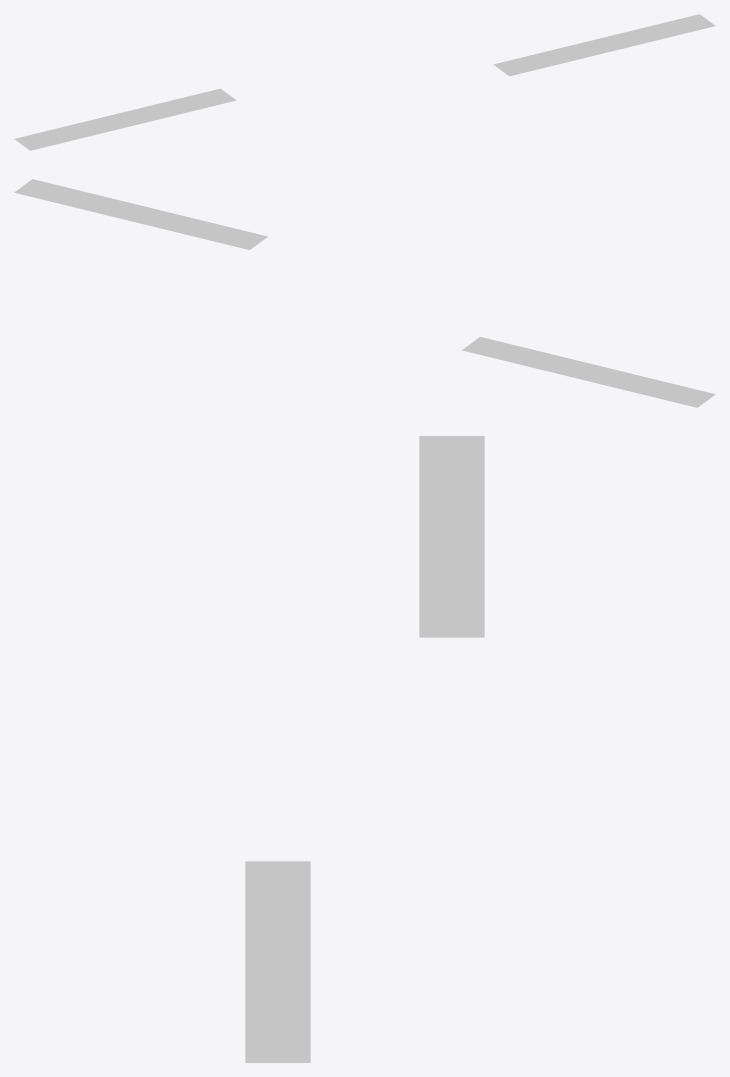
Rendered from kd_stage_135ded_4_151.glb.
3 views of the same model, one above another, from view 1: azimuth 30°, elevation 25°; view 2: azimuth 150°, elevation 25°; view 3: azimuth 270°, elevation 25° (orthographic). The views are drawn at different scales.
Visible parts, largest first — view 1: kd_stage_135ded_4_151; view 2: kd_stage_135ded_4_151; view 3: kd_stage_135ded_4_151.
Part boxes in pixels (x1,y1,x2,y2): kd_stage_135ded_4_151: (14,14,715,150); kd_stage_135ded_4_151: (14,179,715,407); kd_stage_135ded_4_151: (245,436,484,1062).
Size of the model in its own units: 12.02 by 5.96e-08 by 1.94.
1 material, 1 textured.
